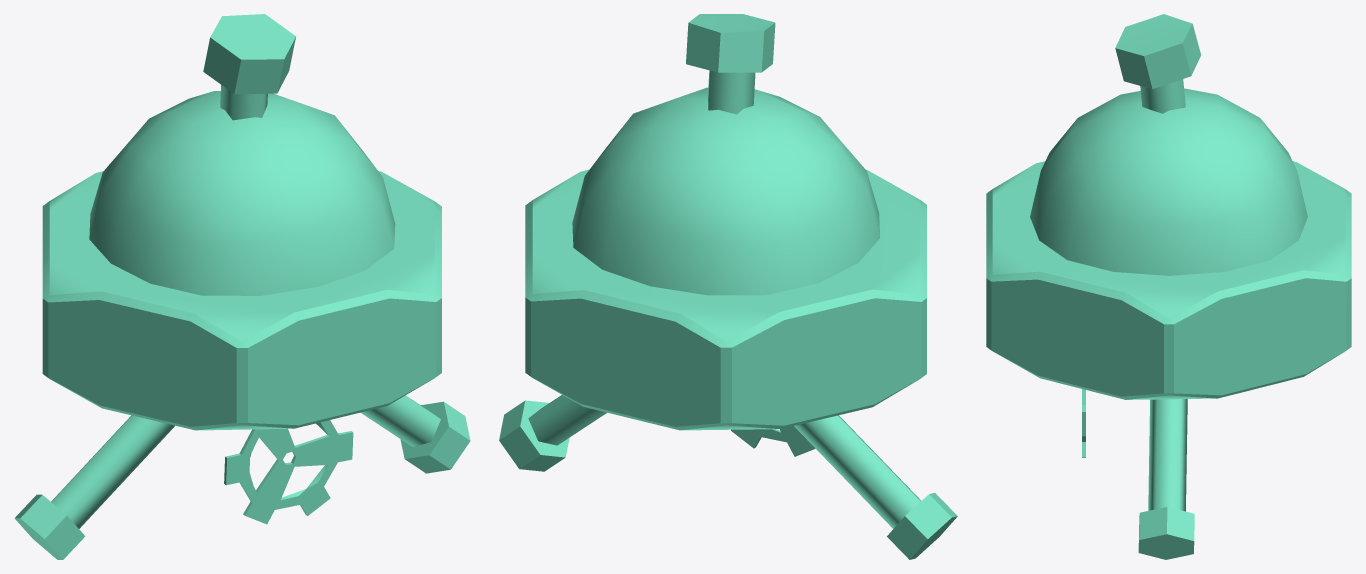
File: Plate.fbx
3 views of the same model, side by side, from view 1: azimuth 30°, elevation 25°; view 2: azimuth 150°, elevation 25°; view 3: azimuth 270°, elevation 25° (orthographic). The views are drawn at different scales.
Parts seen in each view (by area): view 1: Poli_Head, ude_hidari, Poli_Gear, Poli_Top_Nut, ude_migi, Poli_Topknot; view 2: Poli_Head, ude_hidari, ude_migi, Poli_Top_Nut, Poli_Topknot, Poli_Gear; view 3: Poli_Head, ude_migi, Poli_Top_Nut, Poli_Topknot.
Part boxes in pixels (box(x1,y1,x2,y2)): Poli_Head: box(42, 91, 441, 430); ude_hidari: box(14, 415, 174, 559); Poli_Gear: box(224, 420, 353, 524); Poli_Top_Nut: box(203, 14, 295, 94); ude_migi: box(361, 395, 470, 473); Poli_Topknot: box(220, 85, 267, 120); Poli_Head: box(525, 87, 926, 430); ude_hidari: box(794, 415, 957, 559); ude_migi: box(499, 395, 606, 471); Poli_Top_Nut: box(686, 14, 775, 72); Poli_Topknot: box(707, 70, 755, 114); Poli_Gear: box(731, 426, 815, 456); Poli_Head: box(986, 88, 1351, 399); ude_migi: box(1138, 399, 1194, 559); Poli_Top_Nut: box(1115, 14, 1200, 89); Poli_Topknot: box(1140, 79, 1185, 113).
Size of the model in its own units: 0.682 by 0.722 by 0.5297.
